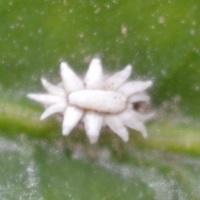insect: (27, 57, 153, 143)
